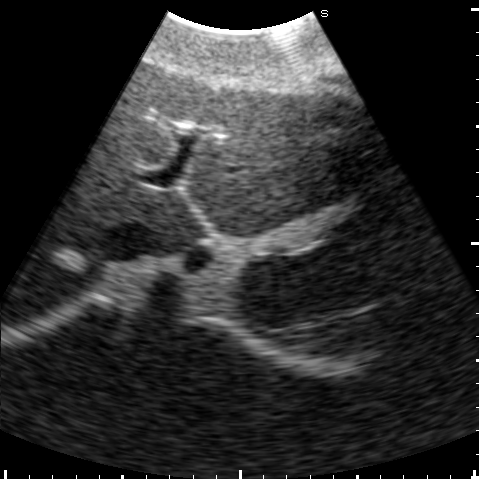IVC: (102, 222, 161, 261)
S1: (156, 191, 216, 244)
S2: (191, 141, 396, 238)
S3: (191, 86, 372, 182)
